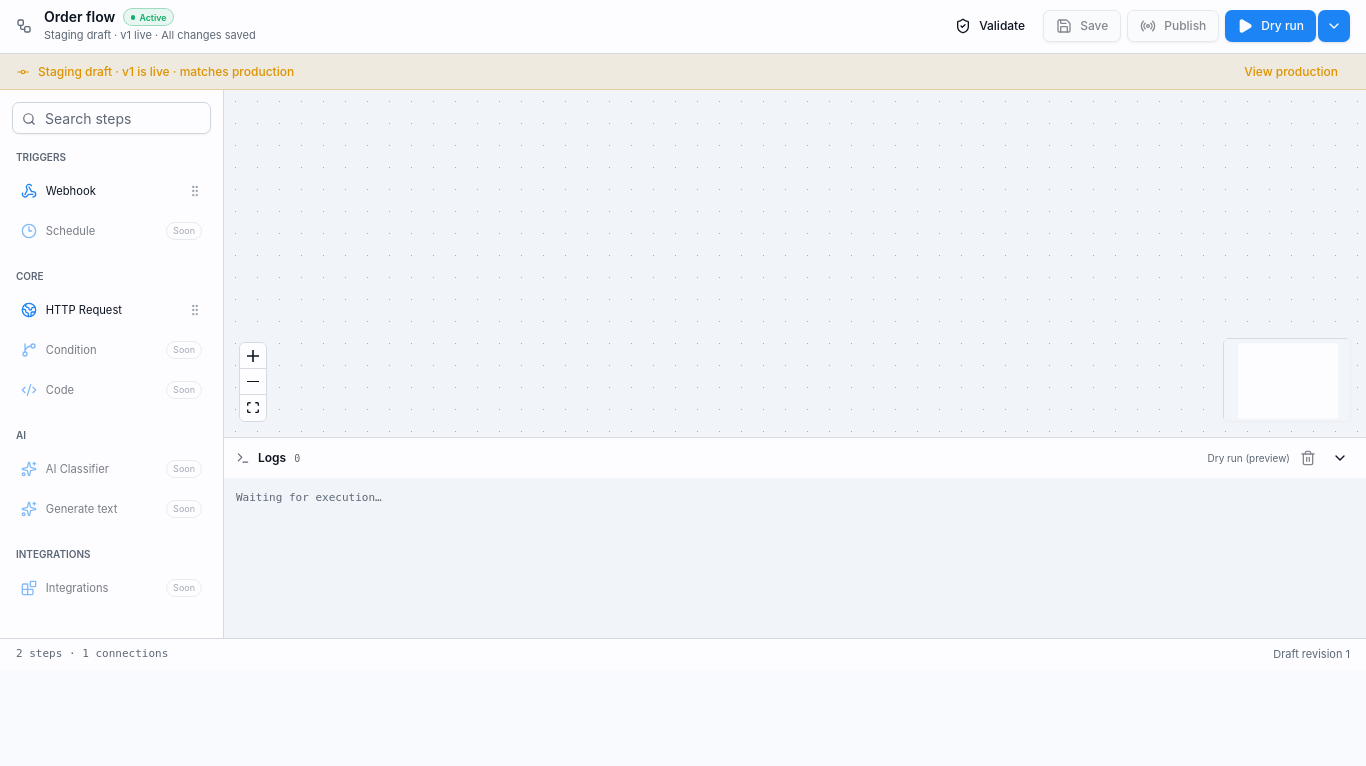
Test: editing and saving › adds a step from the palette, with a readable id
Click the button "HTTP Request" at (112, 310), box [12, 292, 211, 328]
(page scrolled)
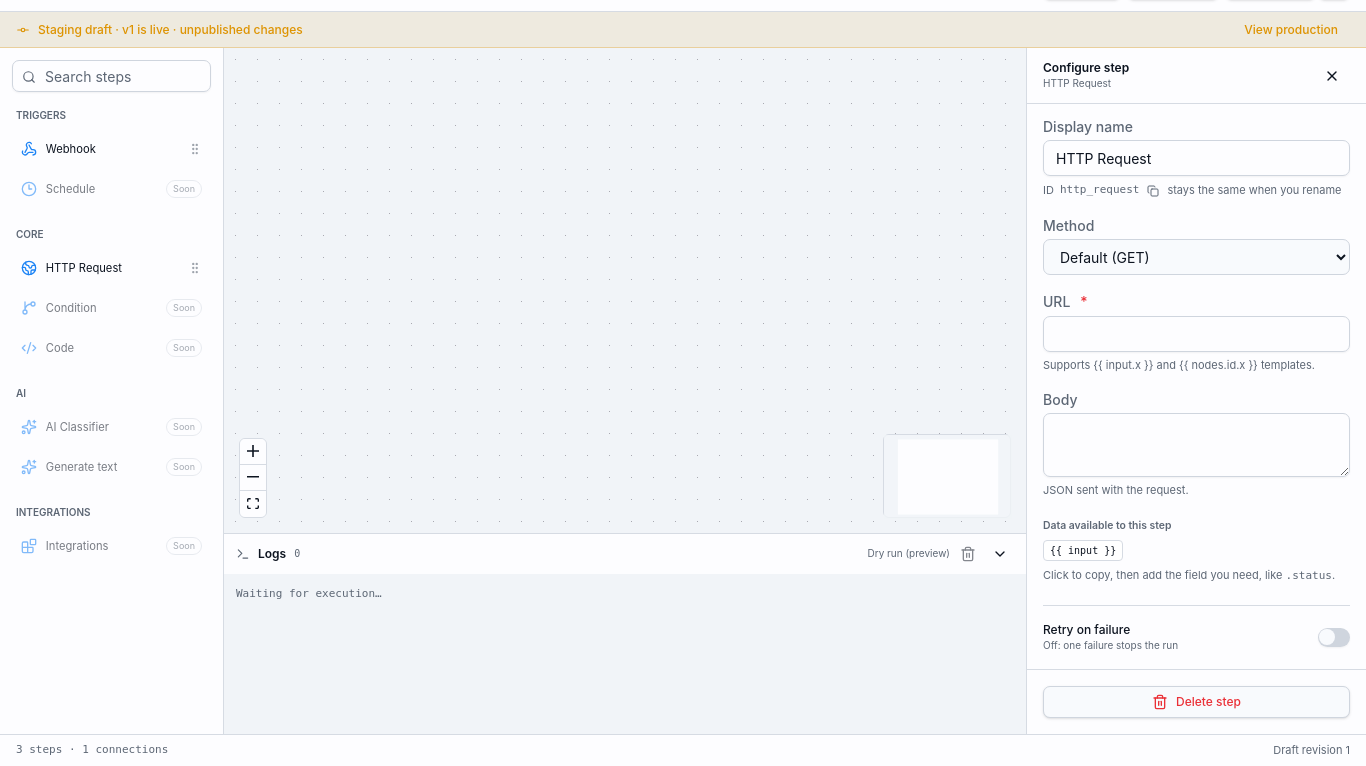
Expected: the text "3 steps · 1 connections" is shown, [16, 742, 168, 759]
